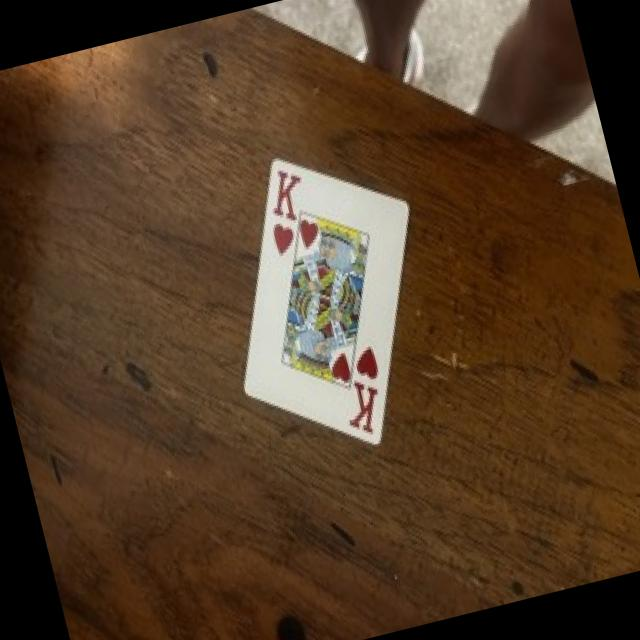King of hearts: (245, 160, 407, 443)
